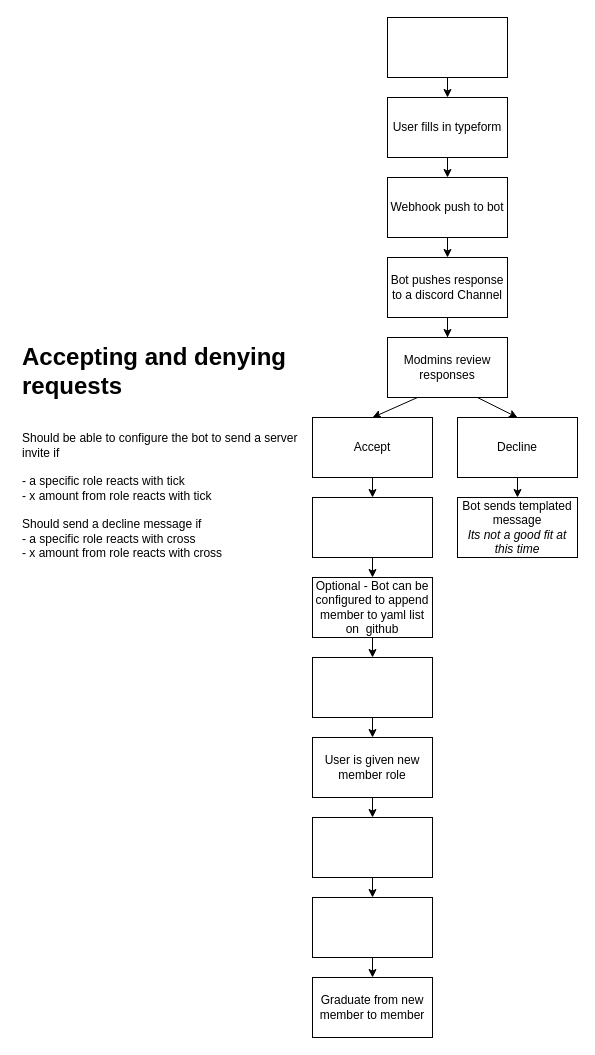
Some shapes in this 595 by 1055 pixel diagram are drawn without their labels. The shapes that lost their labels are listed below. From the top down, each one's box as (x1, y1, x2, y2) in pixels, then its label:
(386, 16, 508, 78): Broadcast message to clan site
(312, 496, 432, 558): Bot sends invite
(312, 656, 432, 718): User reacts to rules
(312, 816, 432, 878): Create onboarding chat for member the-persons-name-onboarding
(312, 896, 432, 958): User completes onboarding class
